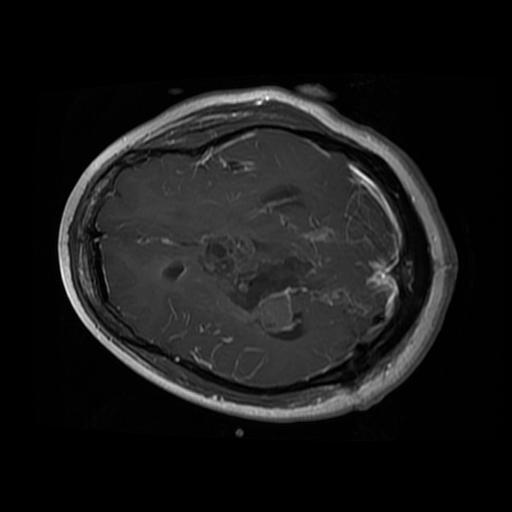glioma: (195, 229, 327, 343)
